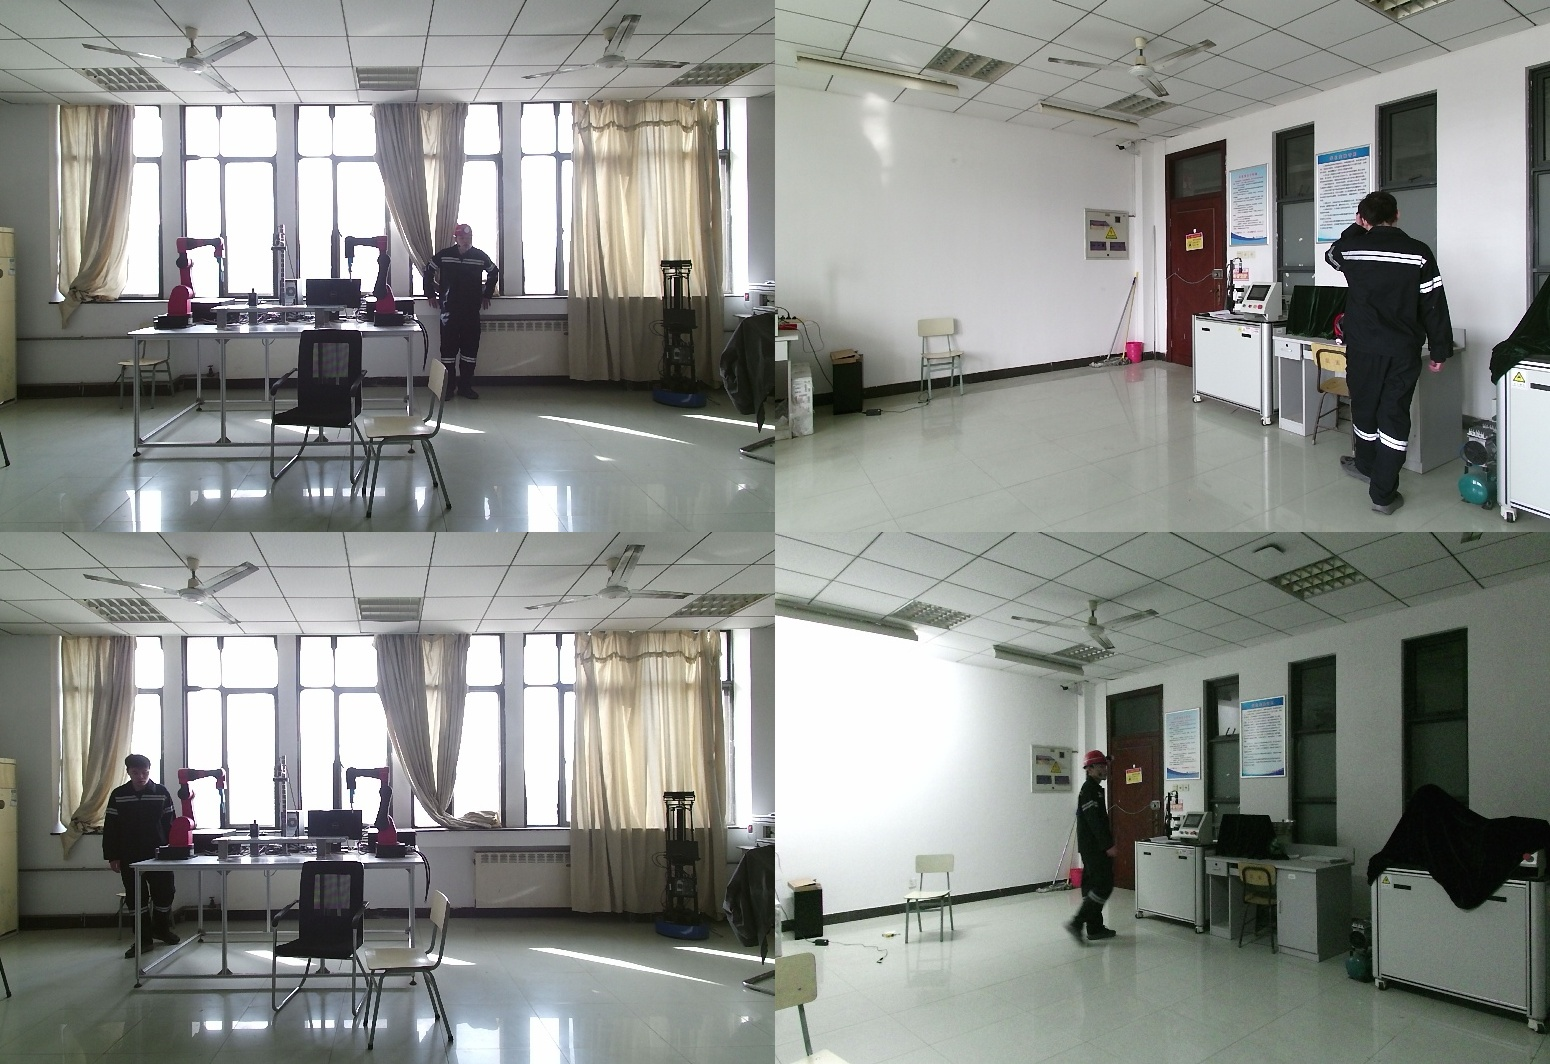person: (1334, 191, 1469, 511), (96, 754, 185, 957), (427, 224, 500, 405), (1055, 752, 1119, 953)
